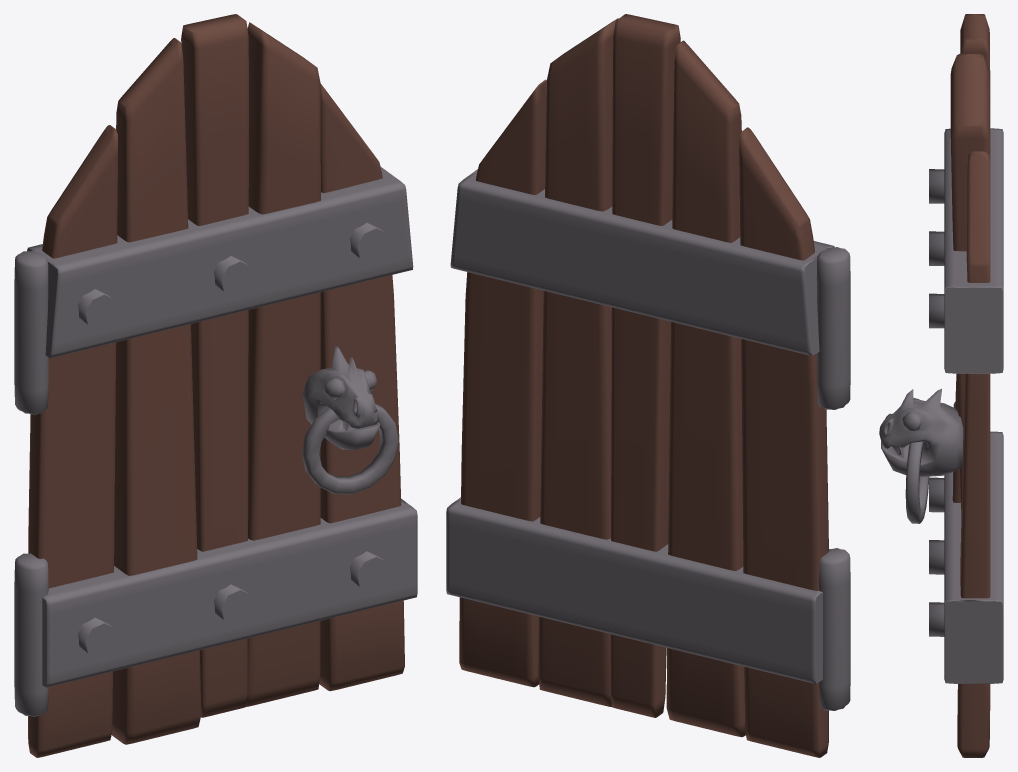
The model's file is BasicDoor.fbx.
The picture shows the model from 3 angles, left to right: view 1: azimuth 30°, elevation 25°; view 2: azimuth 150°, elevation 25°; view 3: azimuth 270°, elevation 25°; orthographic projection. The views are drawn at different scales.
Parts seen in each view (by area): view 1: Cube.099, Cylinder.052; view 2: Cube.099, Cylinder.052; view 3: Cylinder.052, Cube.099.
Boxes of the visible parts, x1=… form: Cube.099: x1=28, y1=14, x2=404, y2=757; Cylinder.052: x1=14, y1=166, x2=417, y2=716; Cube.099: x1=459, y1=14, x2=828, y2=757; Cylinder.052: x1=446, y1=169, x2=850, y2=710; Cylinder.052: x1=879, y1=128, x2=1003, y2=683; Cube.099: x1=950, y1=14, x2=990, y2=757.
Bounding box in the file's own units: 104 × 30.88 × 178.
